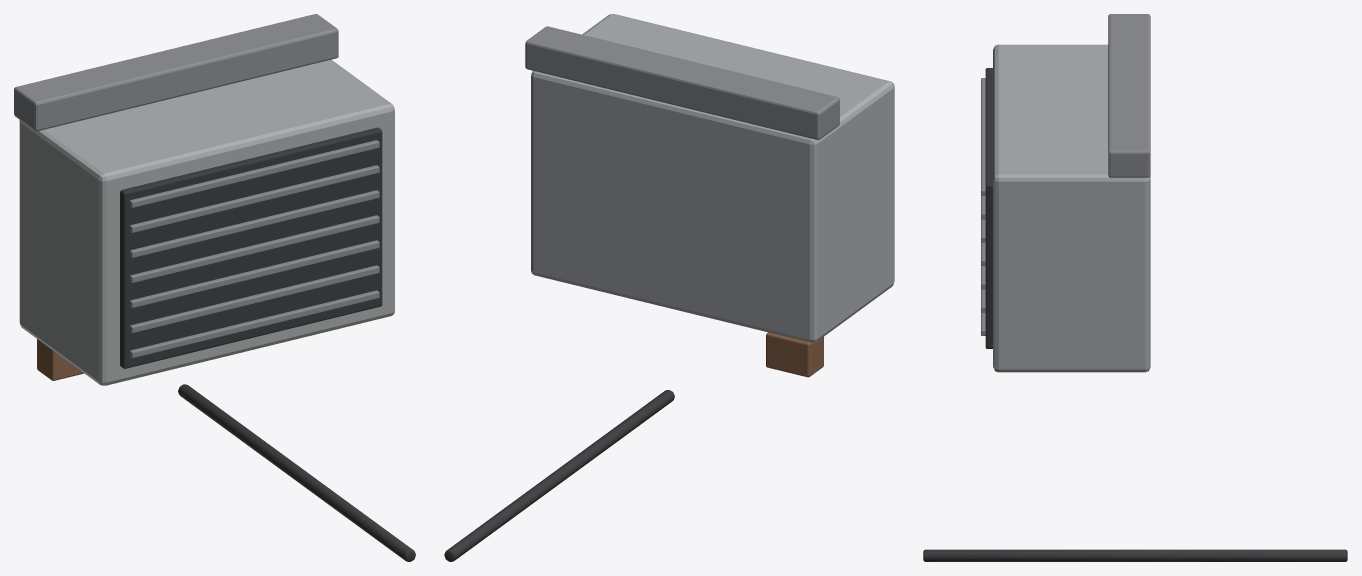
The model's file is prop_ac_unit.glb.
3 views of the same model, side by side, from view 1: azimuth 30°, elevation 25°; view 2: azimuth 150°, elevation 25°; view 3: azimuth 270°, elevation 25° (orthographic). The views are drawn at different scales.
Parts seen in each view (by area): view 1: Cube, Cube.001, Cube.009, Cylinder, Cube.002, Cube.003, Cube.004, Cube.005, Cube.008, Cube.006, Cube.007, Cube.010; view 2: Cube, Cube.009, Cylinder, Cube.010; view 3: Cube, Cube.009, Cylinder, Cube.001, Cube.008.
Part boxes in pixels (x1=…): Cube: x1=19, y1=59, x2=394, y2=385; Cube.001: x1=120, y1=127, x2=382, y2=368; Cube.009: x1=14, y1=14, x2=338, y2=131; Cylinder: x1=178, y1=384, x2=415, y2=561; Cube.002: x1=129, y1=290, x2=379, y2=358; Cube.003: x1=129, y1=265, x2=379, y2=333; Cube.004: x1=129, y1=240, x2=379, y2=308; Cube.005: x1=129, y1=215, x2=379, y2=283; Cube.008: x1=129, y1=140, x2=379, y2=207; Cube.006: x1=129, y1=190, x2=379, y2=257; Cube.007: x1=129, y1=165, x2=379, y2=232; Cube.010: x1=37, y1=339, x2=83, y2=380; Cube: x1=531, y1=14, x2=894, y2=342; Cube.009: x1=525, y1=26, x2=839, y2=139; Cylinder: x1=444, y1=390, x2=674, y2=561; Cube.010: x1=766, y1=332, x2=823, y2=377; Cube: x1=993, y1=44, x2=1150, y2=372; Cube.009: x1=1108, y1=14, x2=1150, y2=177; Cylinder: x1=923, y1=549, x2=1347, y2=561; Cube.001: x1=985, y1=68, x2=992, y2=348; Cube.008: x1=981, y1=78, x2=985, y2=195.
Bounding box in the file's own units: 1.08 × 1.54 × 1.4.
